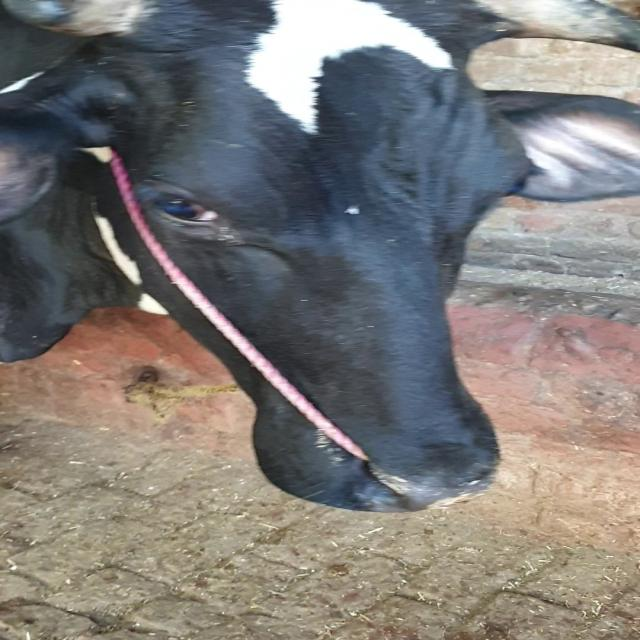cowFace: (117, 44, 556, 501)
